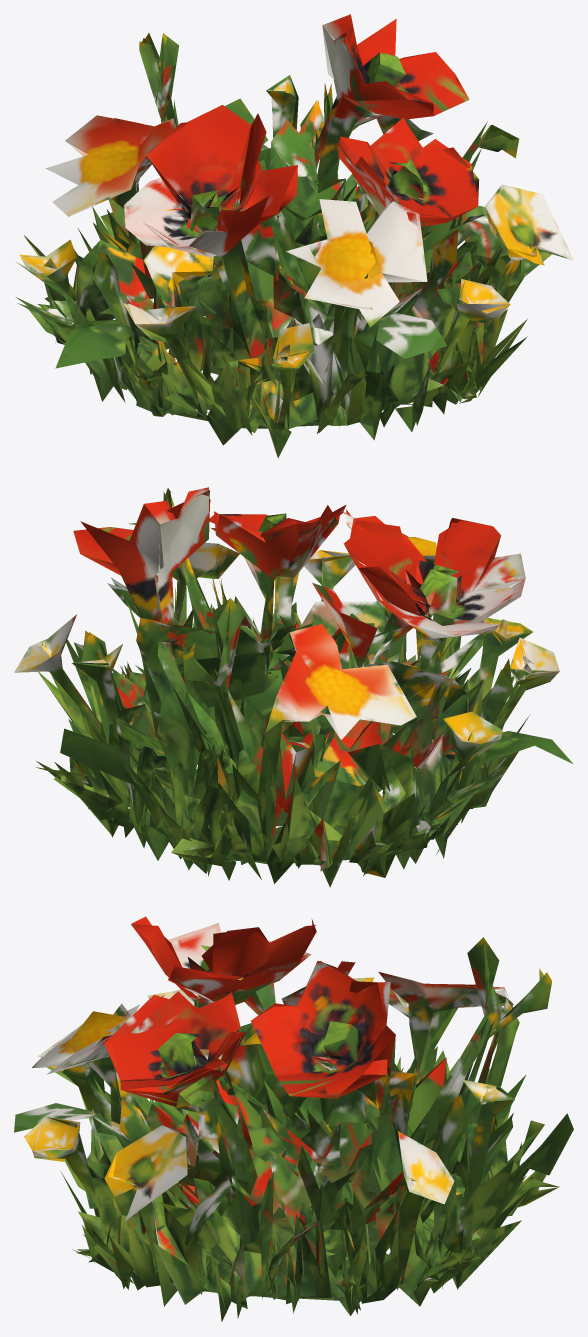
The model's file is flowers.glb.
The picture shows the model from 3 angles, top to bottom: view 1: azimuth 30°, elevation 25°; view 2: azimuth 150°, elevation 25°; view 3: azimuth 270°, elevation 25°; orthographic projection. The views are drawn at different scales.
Parts seen in each view (by area): view 1: Body; view 2: Body; view 3: Body.
Part boxes in pixels (box(x1,y1,x2,y2)): Body: box(15, 14, 573, 458); Body: box(14, 487, 573, 887); Body: box(14, 916, 573, 1321).
Bounding box in the file's own units: 1.3 × 0.8058 × 1.28.
Materials: 1 (1 with a texture image).
